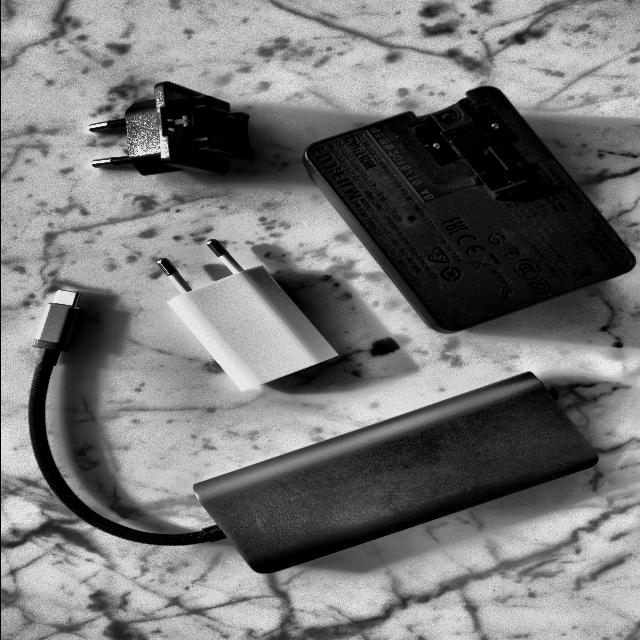Power bank: (28, 290, 597, 573)
